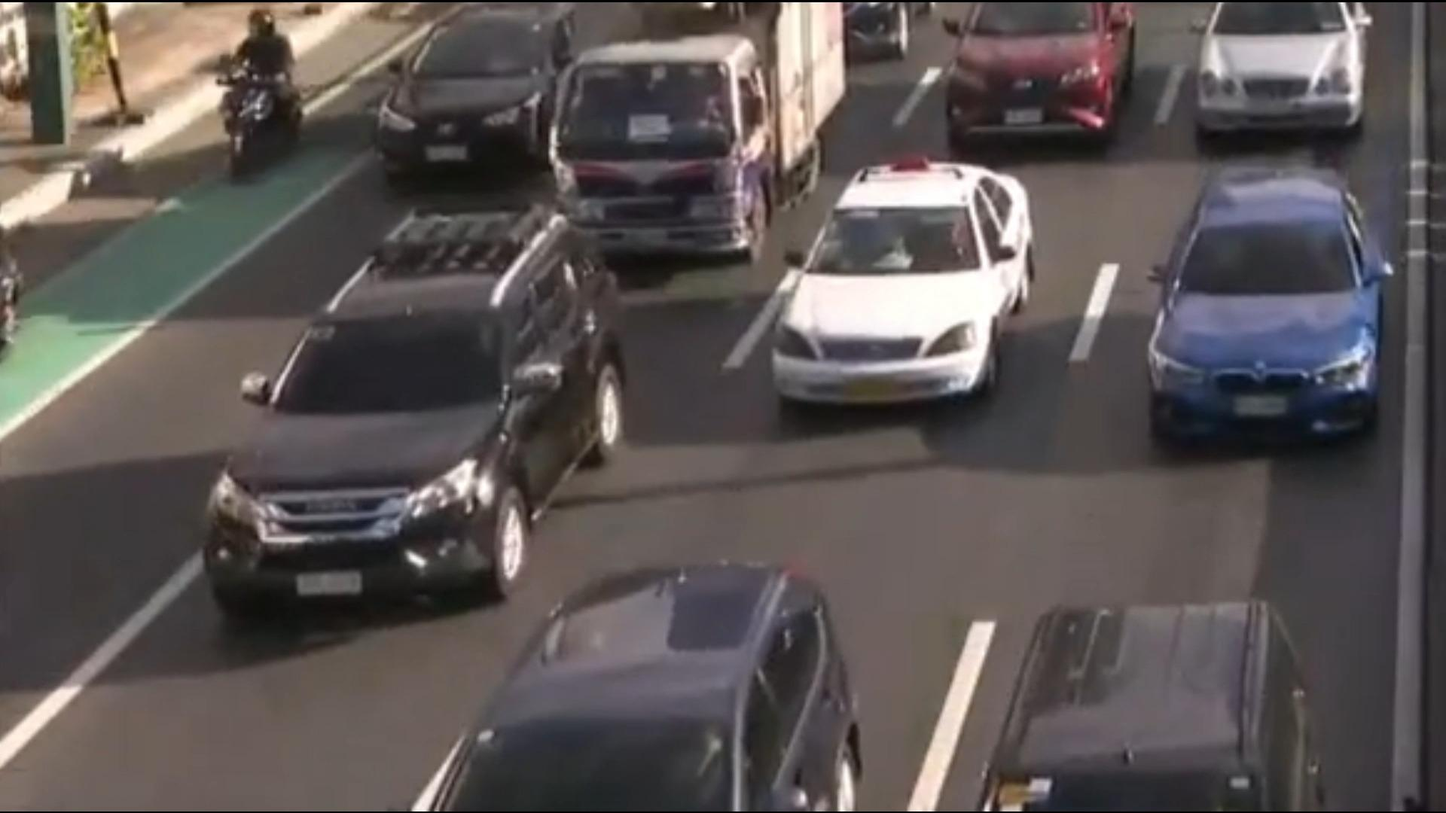Motorcycle: (203, 17, 336, 190)
SUV: (132, 200, 659, 654), (391, 556, 863, 813), (938, 580, 1337, 813)
Sedan: (727, 151, 1070, 455), (1114, 149, 1416, 474)
Truck: (540, 0, 851, 291), (356, 0, 614, 189), (1187, 0, 1387, 160), (949, 3, 1182, 140)
